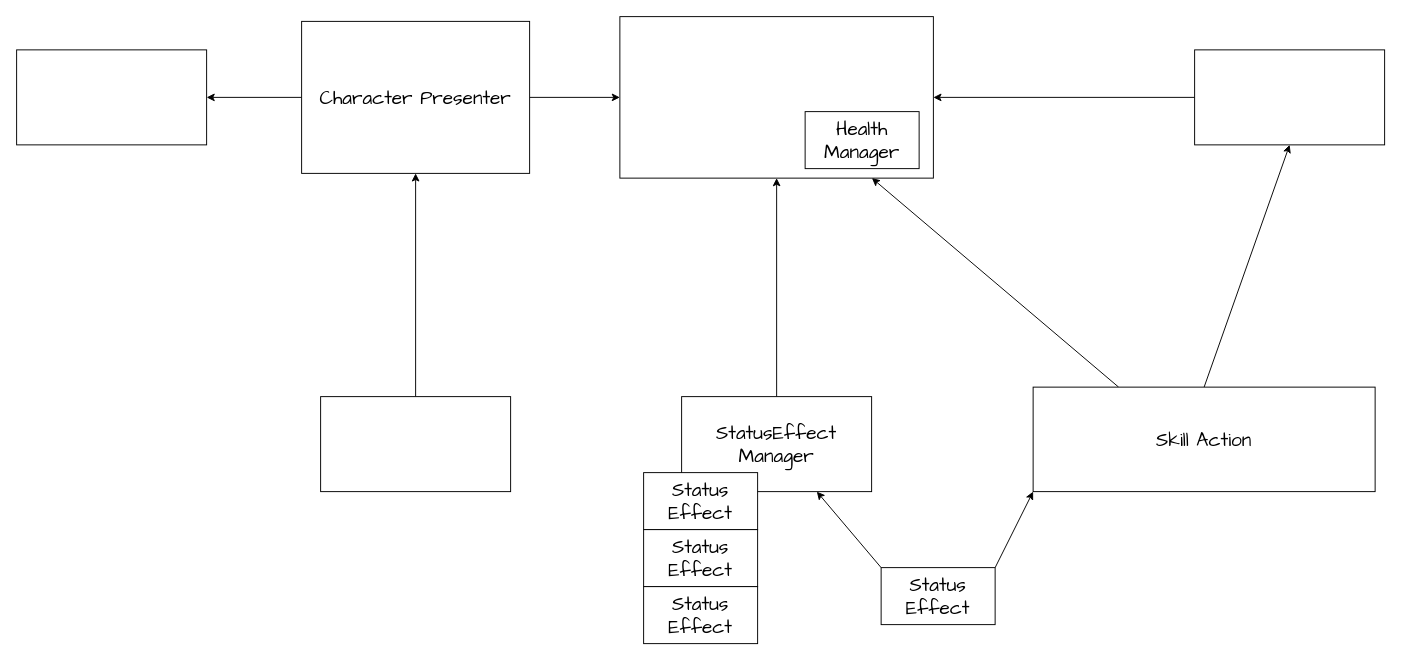
The diagram is 1401 pixels wide and 660 high, and some of its shapes have lost their labels. The shapes that lost their labels are listed below. From the top down, each one's box as (x1, y1, x2, y2) in pixels, then its label:
(16, 49, 207, 145): Character View
(619, 16, 933, 178): Character Model
(1194, 49, 1385, 145): Target Manager
(320, 396, 511, 492): Turn Manager
